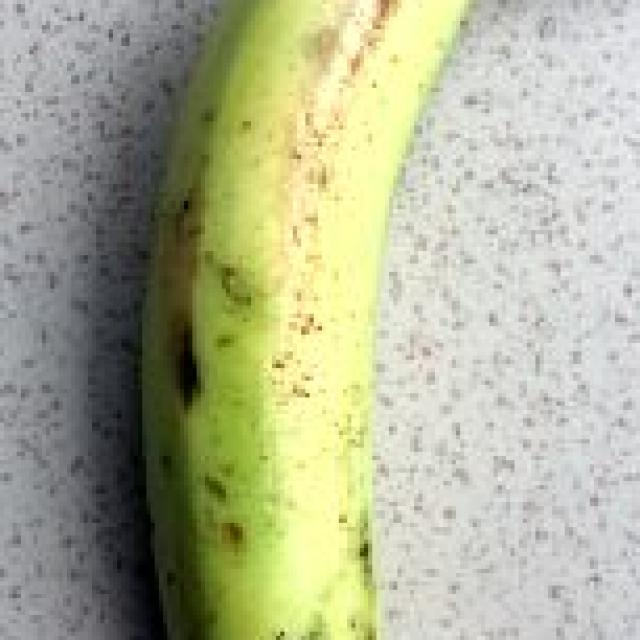Good_Banana-2-3 days: (142, 0, 473, 640)
